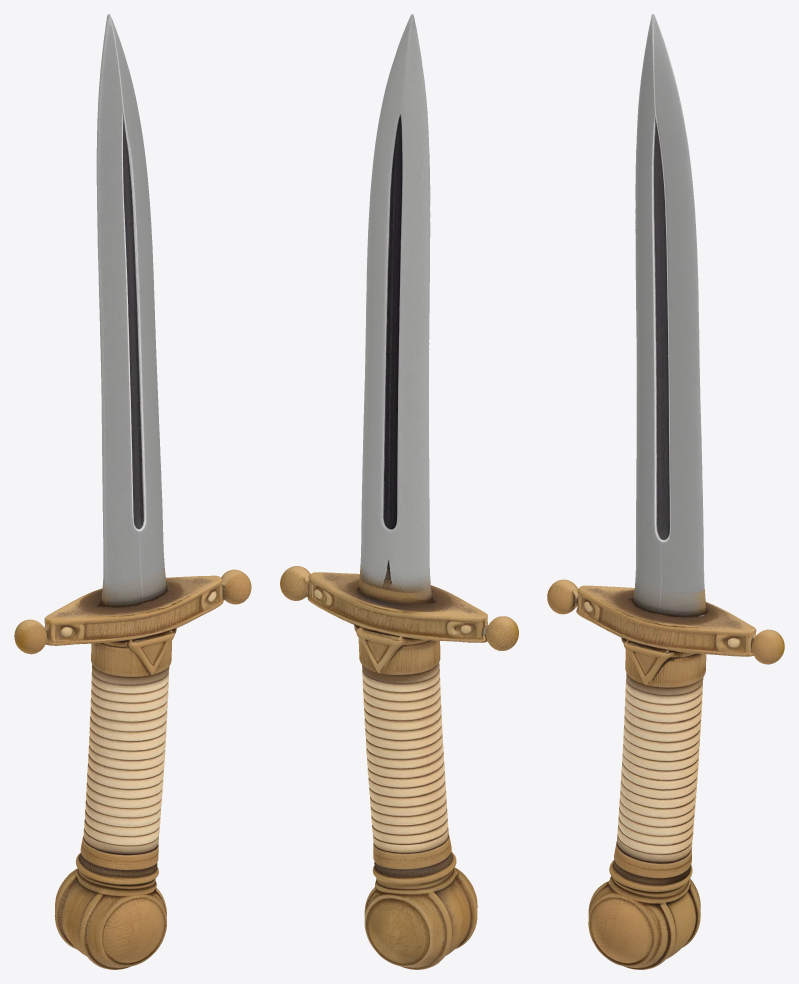
The model's file is gladius_ornate.glb.
The picture shows the model from 3 angles, left to right: view 1: azimuth 30°, elevation 25°; view 2: azimuth 150°, elevation 25°; view 3: azimuth 330°, elevation 25°; orthographic projection.
Bounding box in the file's own units: 0.4879 × 1.9 × 0.2289.
1 material, 1 textured.
